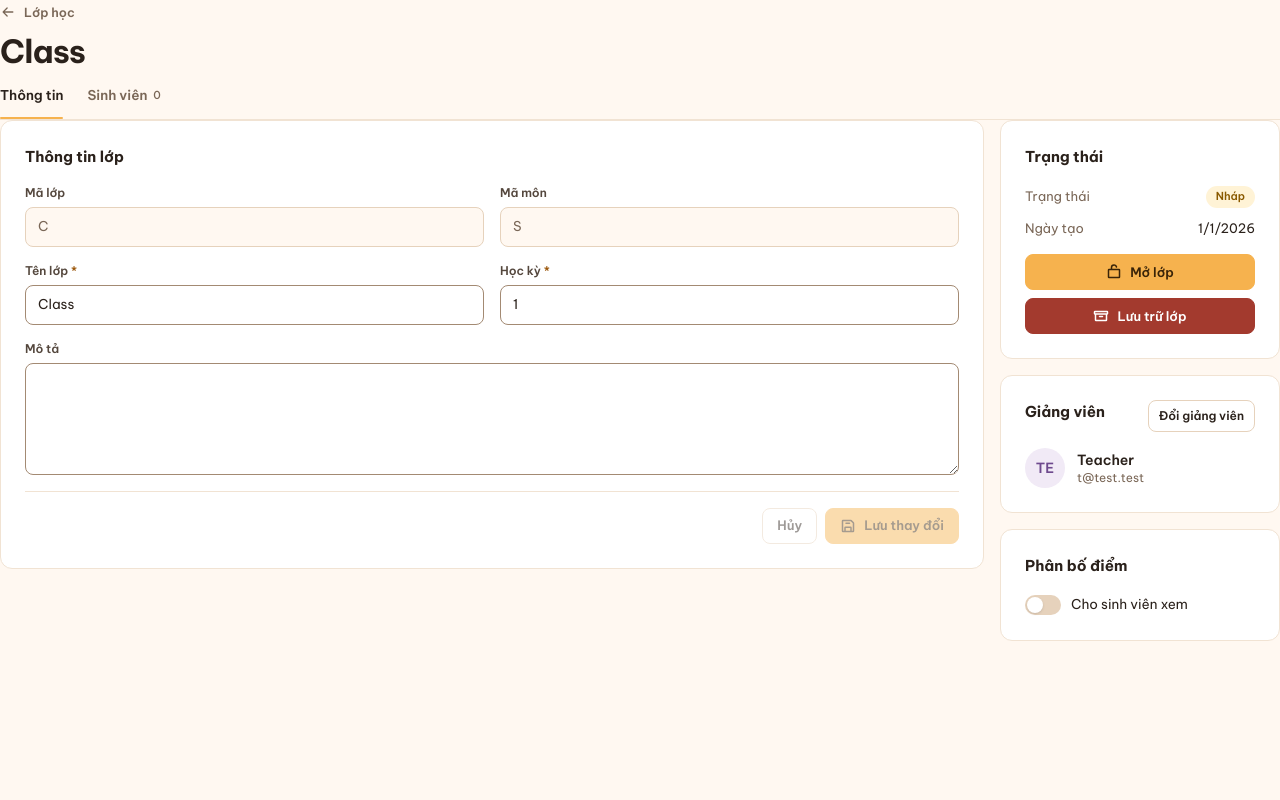
Test case: reloads a conflicting manager mutation and retains its actionable error
The width and height of the screenshot is (1280, 800).
Click the button with test id "class-state-open" at (1140, 272), box [1025,254,1255,290]
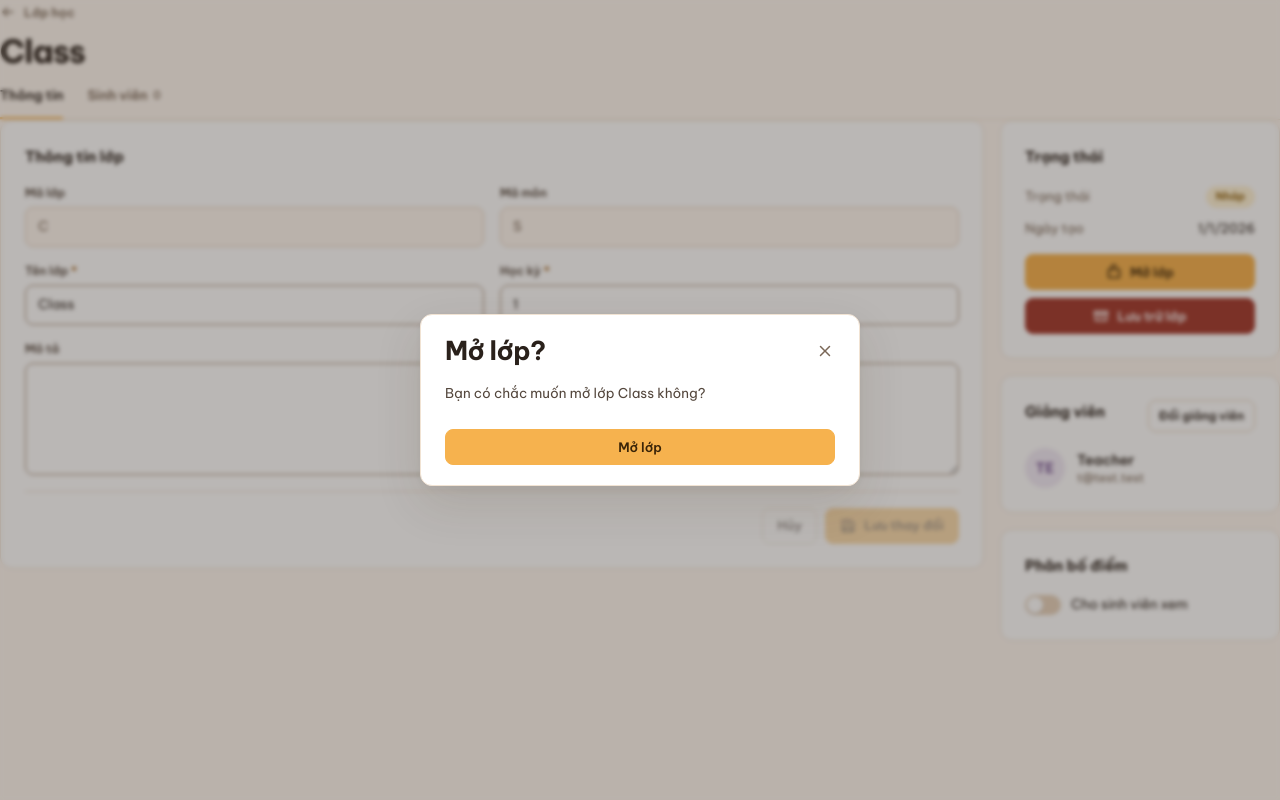
Click the button with test id "class-state-confirm" at (640, 447), box [445,429,835,465]
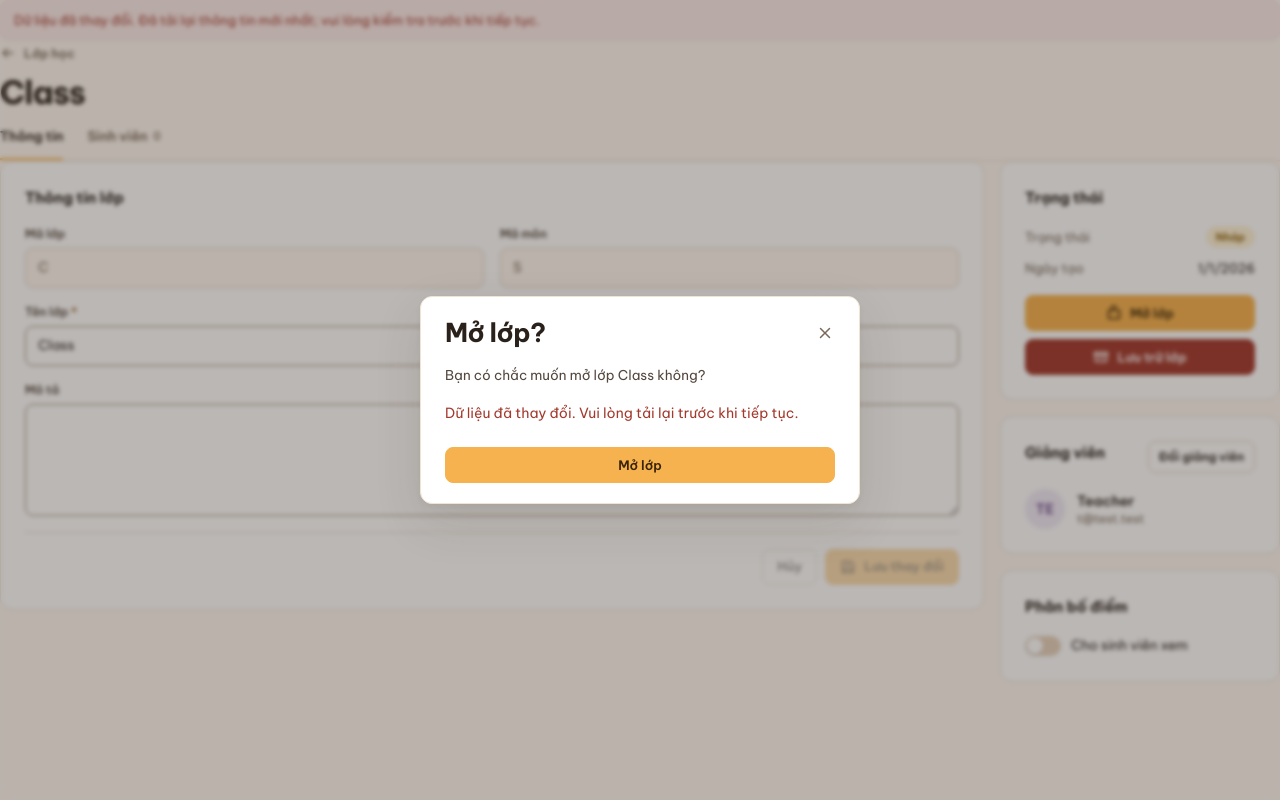
Expected: the 1st message is shown, [0,0,1279,41]
